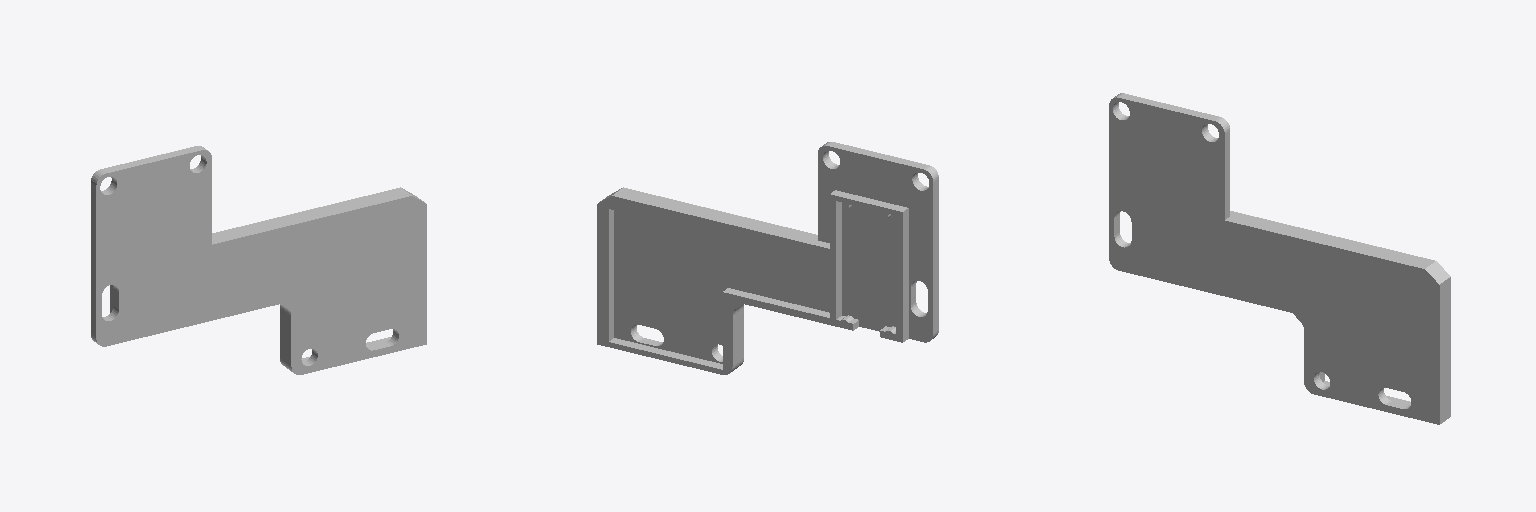
Rendered from Top.obj.
The picture shows the model from 3 angles: view 1: azimuth 30°, elevation 25°; view 2: azimuth 150°, elevation 25°; view 3: azimuth 330°, elevation 25°; orthographic projection.
Visible parts, largest first — view 1: Body1; view 2: Body1; view 3: Body1.
Boxes of the visible parts, x1,y1,x2,y2 form: Body1: [91, 146, 426, 374]; Body1: [597, 142, 938, 374]; Body1: [1109, 93, 1450, 424].
Size of the model in its own units: 100 by 72 by 6.